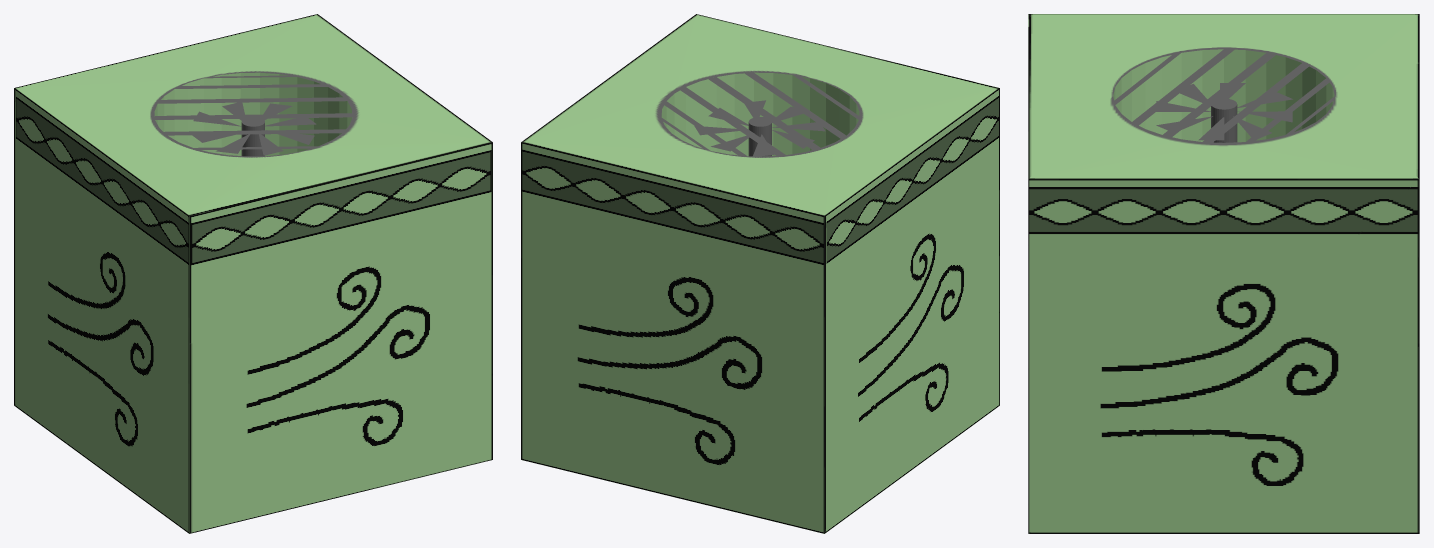
Rendered from blowerBlock.obj.
3 views of the same model, side by side, from view 1: azimuth 30°, elevation 25°; view 2: azimuth 150°, elevation 25°; view 3: azimuth 270°, elevation 25° (orthographic). The views are drawn at different scales.
Parts seen in each view (by area): view 1: 円柱; view 2: 円柱; view 3: 円柱.
Boxes of the visible parts, bbox=[...] form: 円柱: bbox=[14, 14, 492, 533]; 円柱: bbox=[521, 14, 999, 533]; 円柱: bbox=[1028, 14, 1419, 533].
Bounding box in the file's own units: 2 × 2 × 2.
1 material, 1 textured.
